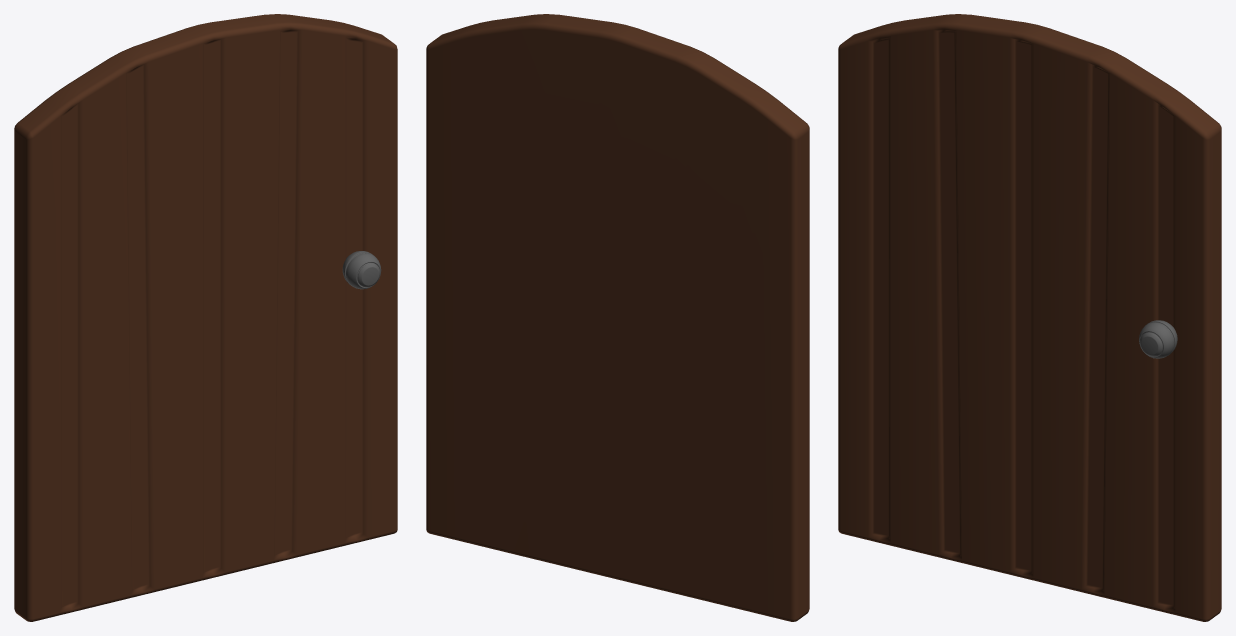
The model's file is FM_BB_Clock_Tower_Door_001.fbx.
3 views of the same model, side by side, from view 1: azimuth 30°, elevation 25°; view 2: azimuth 150°, elevation 25°; view 3: azimuth 330°, elevation 25° (orthographic).
Visible parts, largest first — view 1: FM_BB_Clock_Tower_Door_001; view 2: FM_BB_Clock_Tower_Door_001; view 3: FM_BB_Clock_Tower_Door_001.
Part boxes in pixels (left/top/right/bottom): FM_BB_Clock_Tower_Door_001: left=14, top=14, right=397, bottom=621; FM_BB_Clock_Tower_Door_001: left=426, top=14, right=809, bottom=621; FM_BB_Clock_Tower_Door_001: left=838, top=14, right=1221, bottom=621.
Bounding box in the file's own units: 1.42 × 2 × 0.2045.
